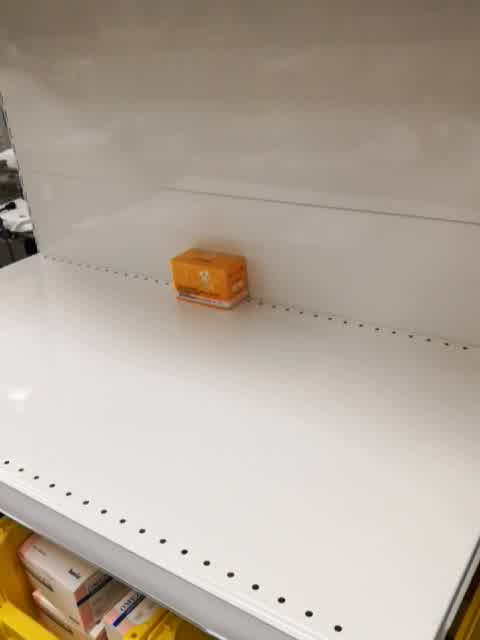jasminetea: (170, 248, 251, 311)
